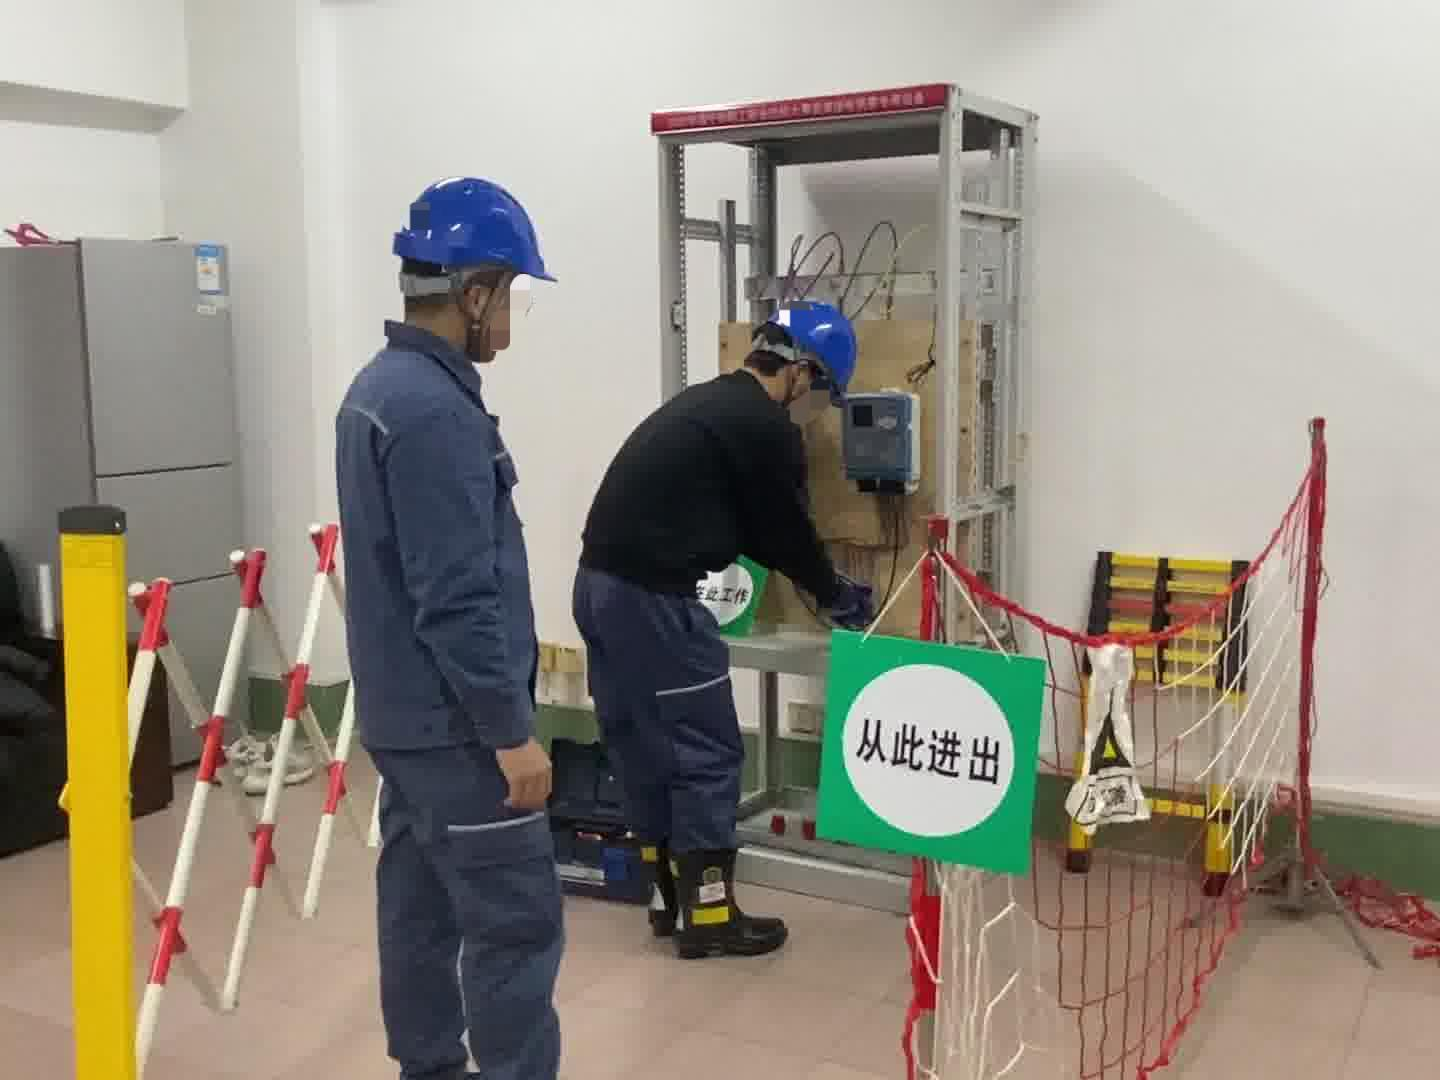halt: (387, 177, 559, 364), (749, 302, 861, 417)
inear: (451, 269, 502, 341), (778, 355, 823, 415)
